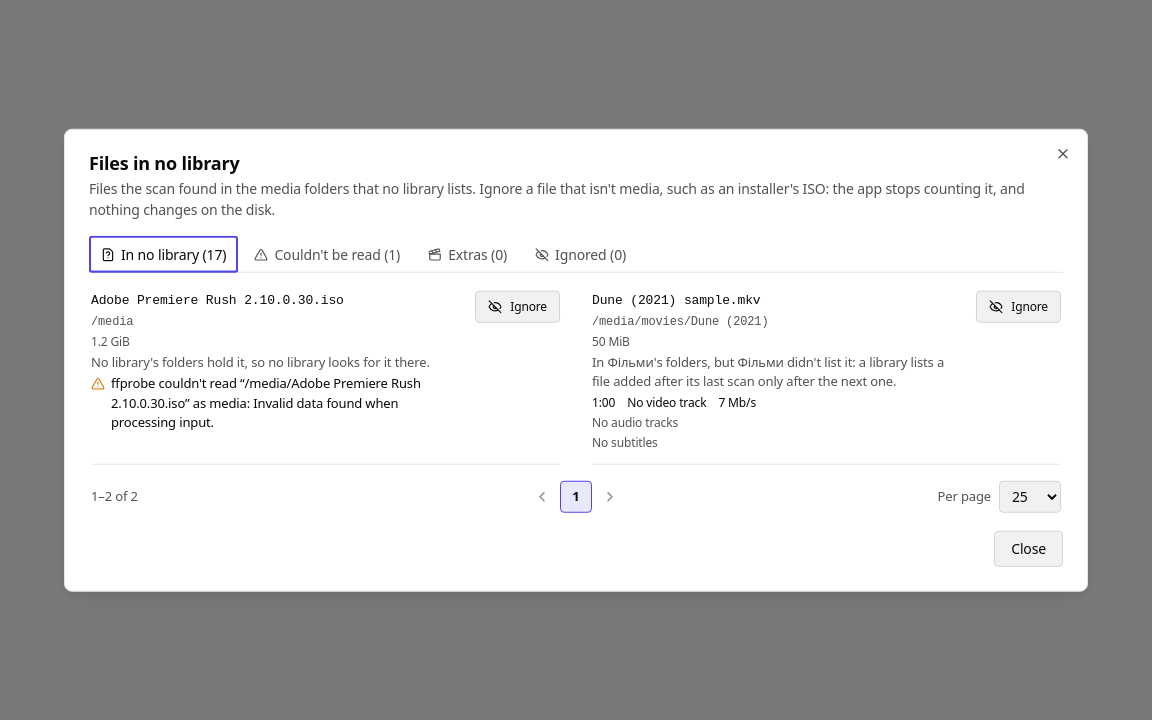
Scenario: UnreportedFilesDialog › shows a refusal on the file's row
The image size is (1152, 720).
Click the 1st button "Ignore" at [518, 307], box [475,291,560,323]
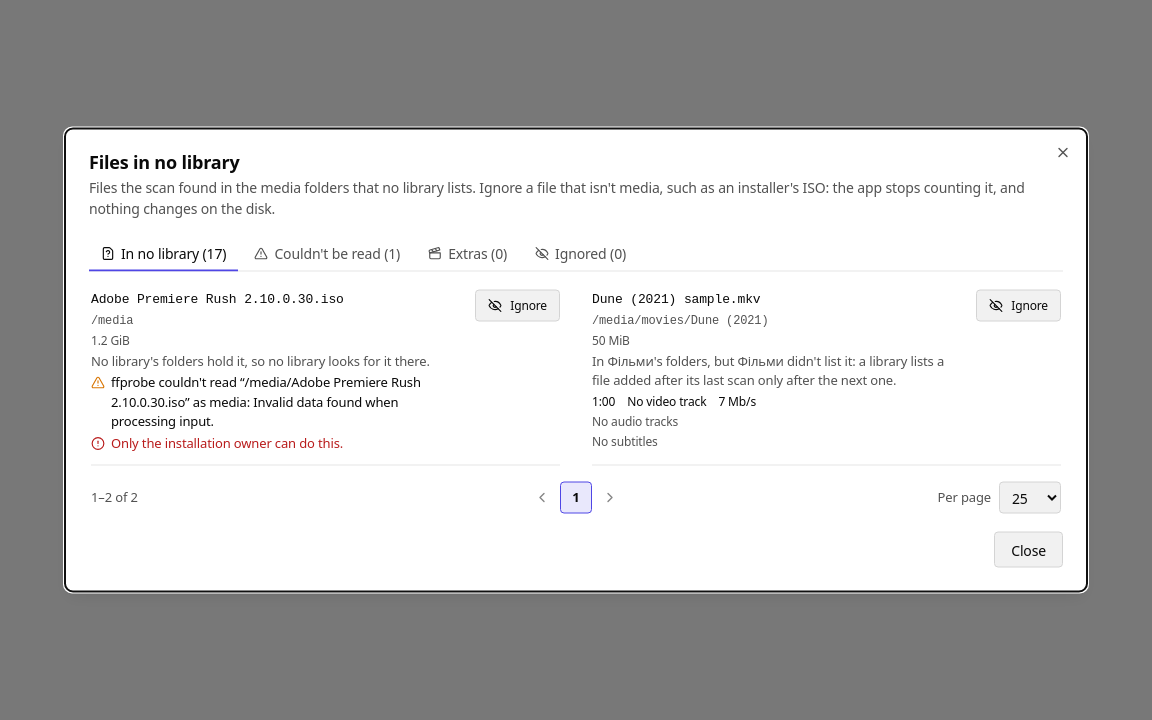
Result: the message reads "Only the installation owner can do this." at [111,433,343,451]
